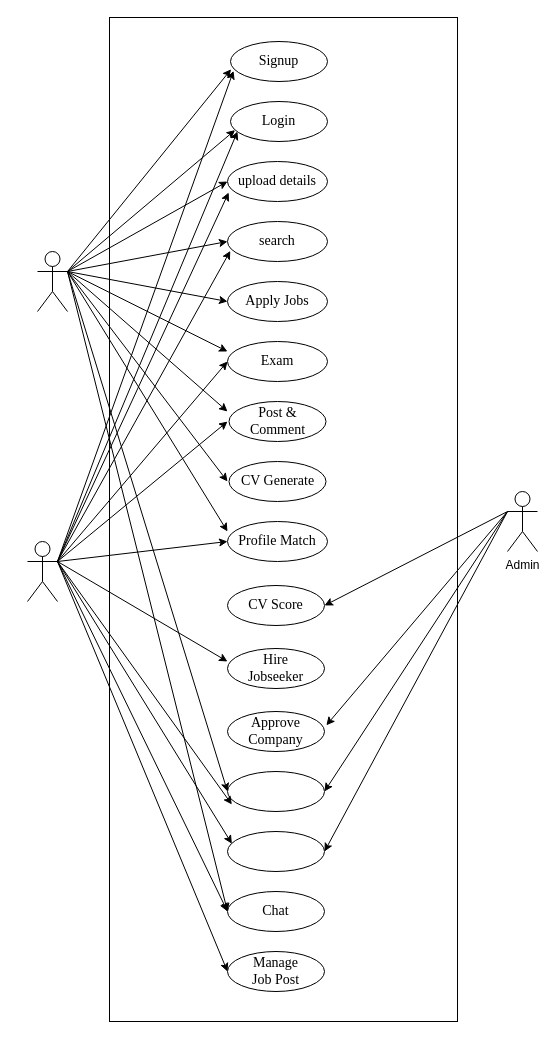
Image size: 557x1039. Some labels were removed from this diagram. The shapes that lost their labels are listed below. From the top down, each one's centre as x and y in pixels, then its label:
At pixel 52 281: "Employee".
At pixel 42 571: "Employer".
At pixel 275 791: "Manage Account".
At pixel 275 851: "Manage Post".
